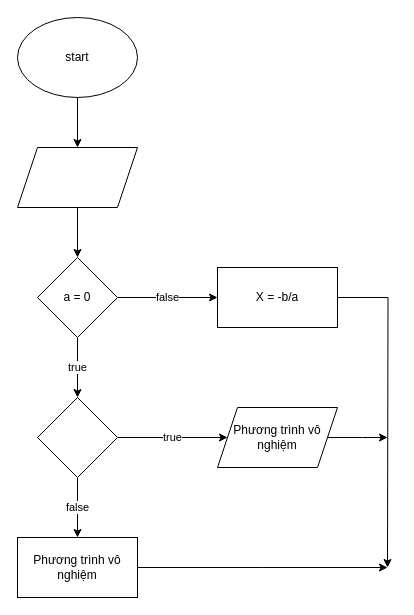
Some shapes in this 414 by 615 pixel diagram are drawn without their labels. The box of each missing label's shape, as (x1, y1, x2, y2) in pixels:
b = 0: (36, 396, 118, 478)
num = a num = b: (16, 146, 138, 208)
